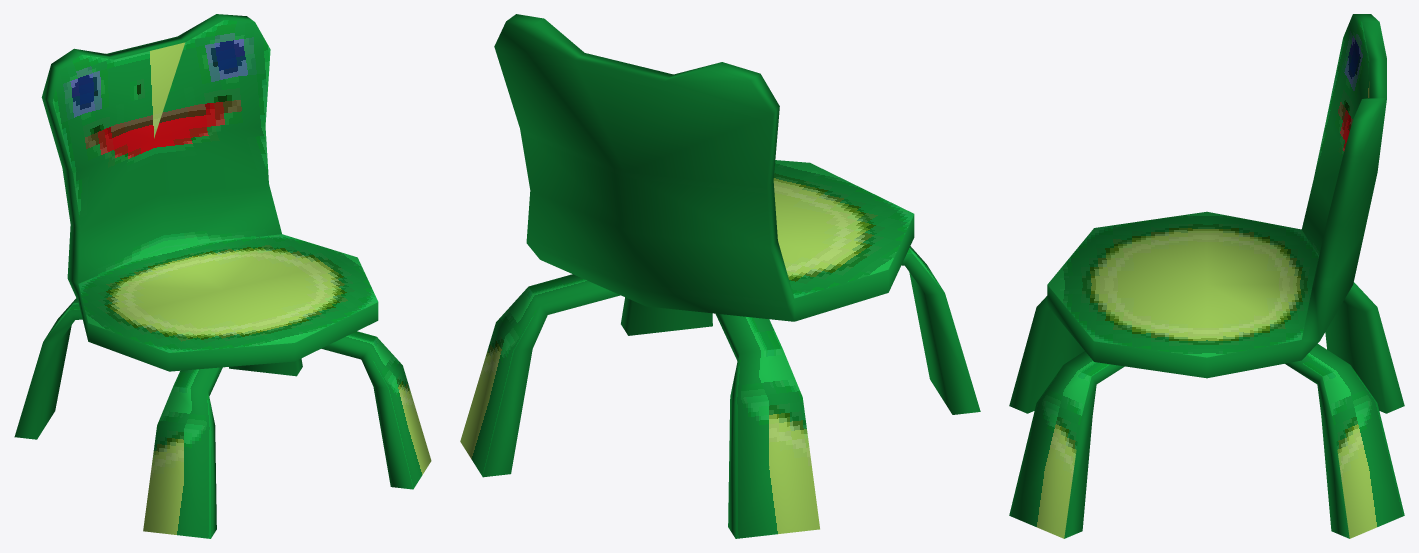
Rendered from rmk_flg_chairS.dae.
3 views of the same model, side by side, from view 1: azimuth 30°, elevation 25°; view 2: azimuth 150°, elevation 25°; view 3: azimuth 270°, elevation 25° (orthographic). The views are drawn at different scales.
Parts seen in each view (by area): view 1: rmk_flg_chairS; view 2: rmk_flg_chairS; view 3: rmk_flg_chairS.
Part boxes in pixels (x1,y1,x2,y2): rmk_flg_chairS: (14, 14, 431, 538); rmk_flg_chairS: (460, 14, 980, 538); rmk_flg_chairS: (1009, 14, 1404, 538).
Bounding box in the file's own units: 22.79 × 27.23 × 24.39.
Materials: 1 (1 with a texture image).
